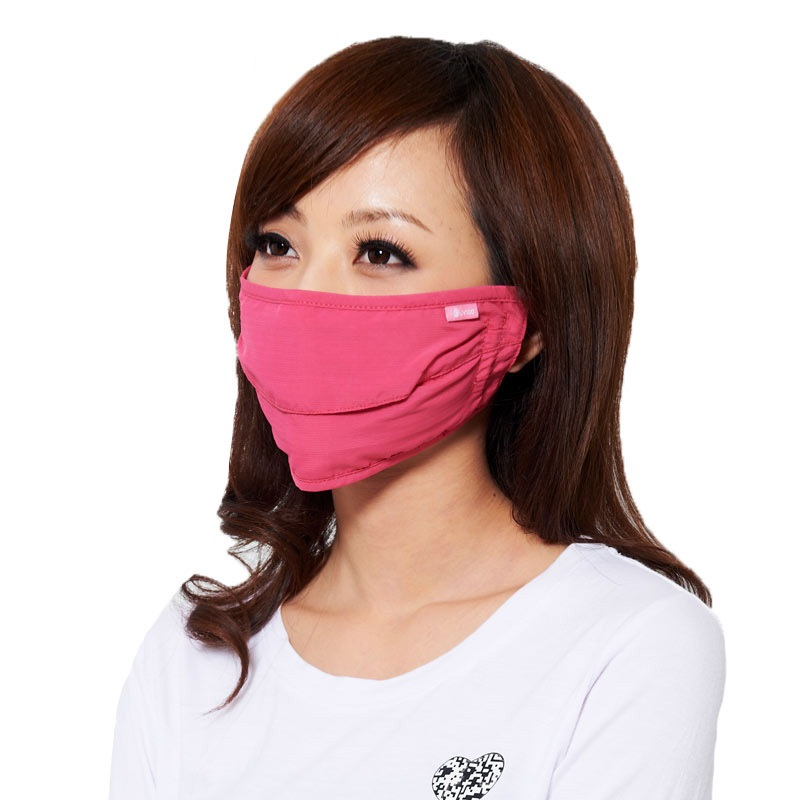face_mask: (239, 137, 502, 492)
